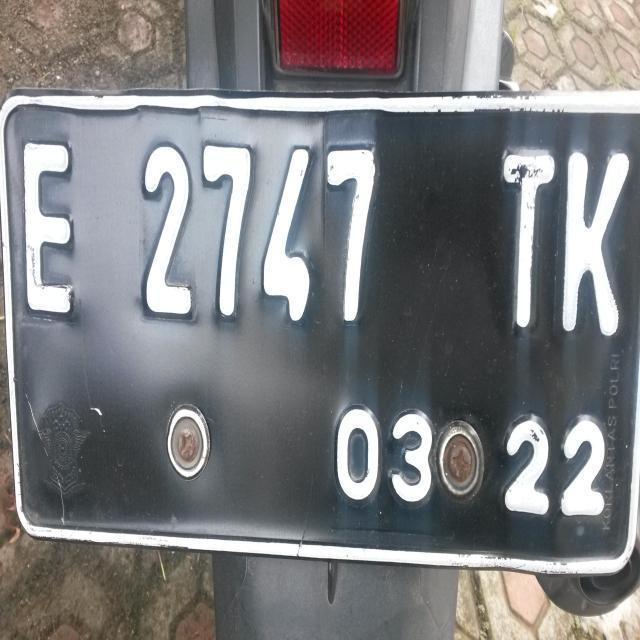2: (137, 125, 197, 333)
4: (262, 129, 320, 335)
7: (319, 127, 386, 345), (198, 134, 258, 333)
E: (18, 130, 86, 338)
K: (558, 139, 640, 347)
T: (494, 143, 557, 347)
